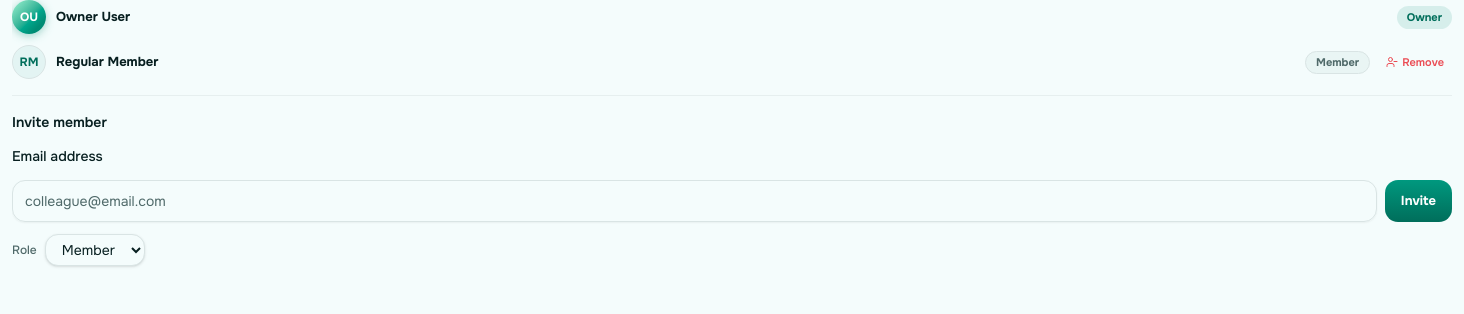
it: <TeamManager /> › shows already-member message on 409 ALREADY_MEMBER response
In the field labelled "Email address": (694, 201) [12,180,1377,222], type "existing@example.com"
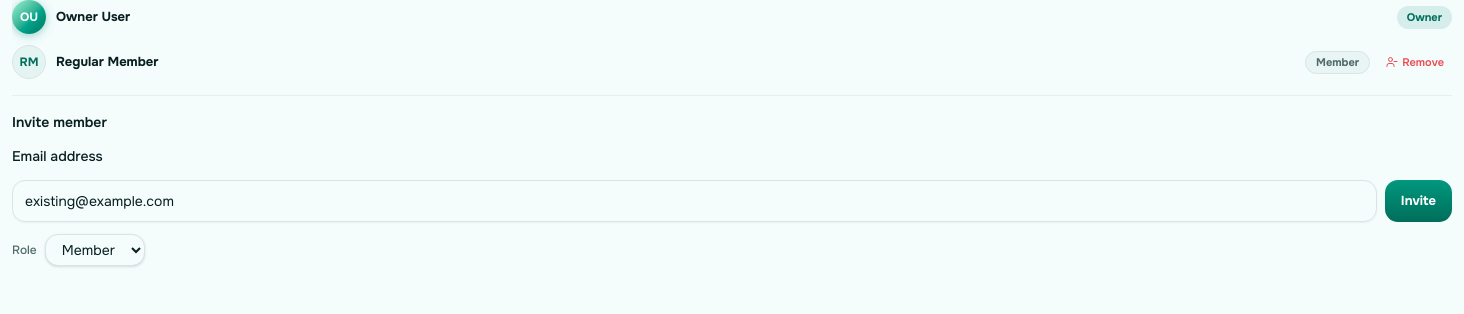
Click the button "Invite": click(1418, 201) [1385,180,1452,222]
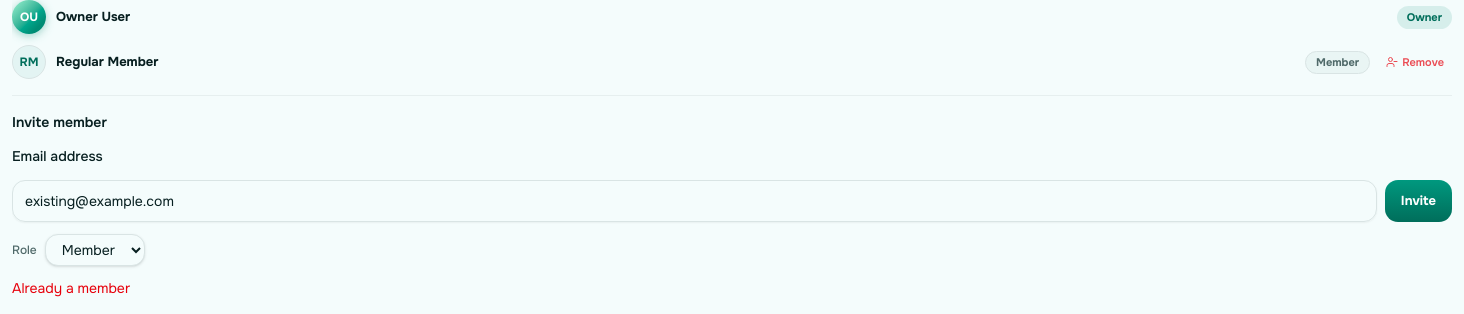
Check: the text "Already a member" is shown, box [12,279,130,297]
